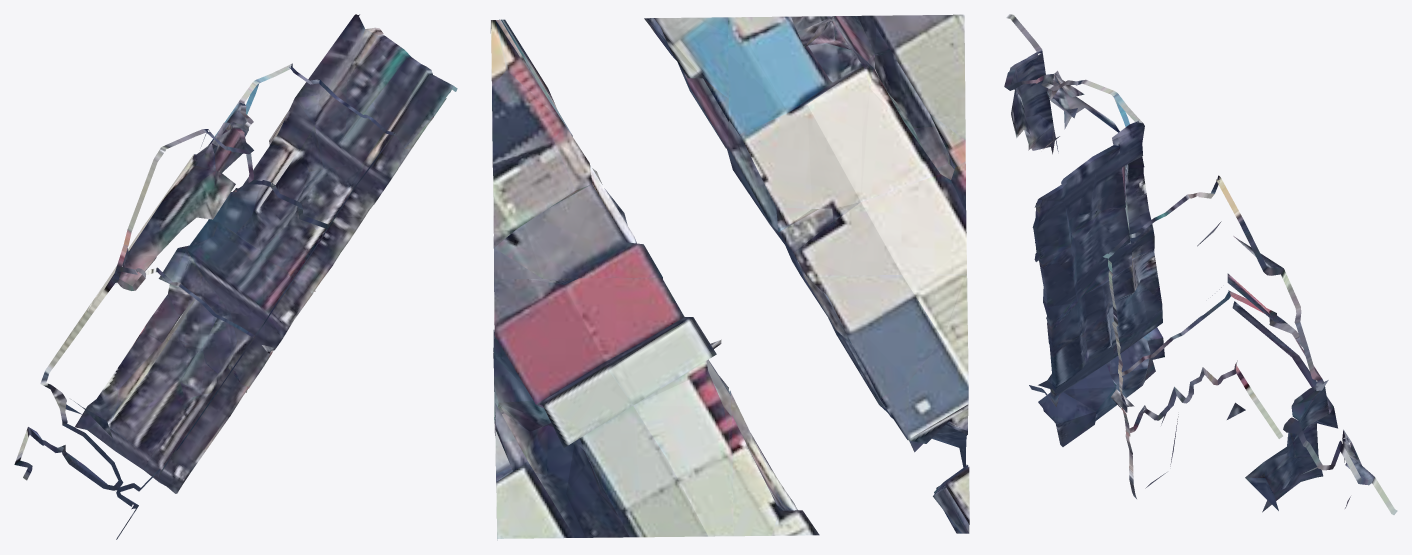
3 views of the same model, side by side, from view 1: azimuth 30°, elevation 25°; view 2: azimuth 150°, elevation 25°; view 3: azimuth 270°, elevation 25° (orthographic). The views are drawn at different scales.
Bounding box in the file's own units: 43.13 × 39.98 × 32.
2 materials, 2 textured.
